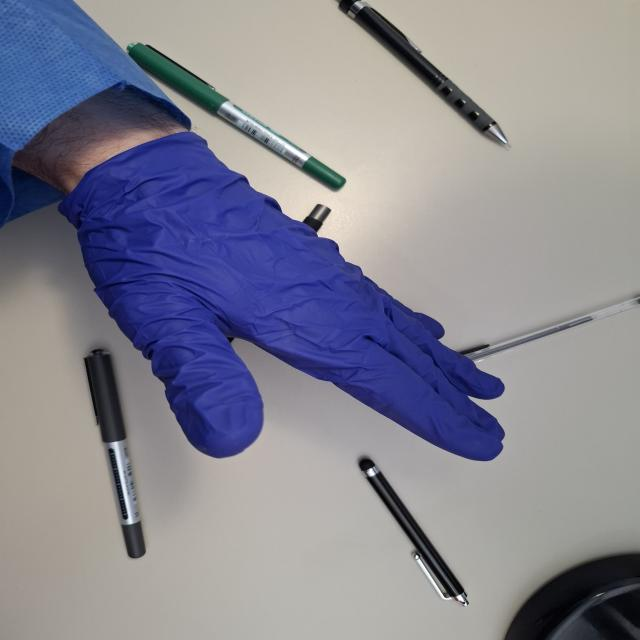glove_on: (52, 130, 510, 464)
